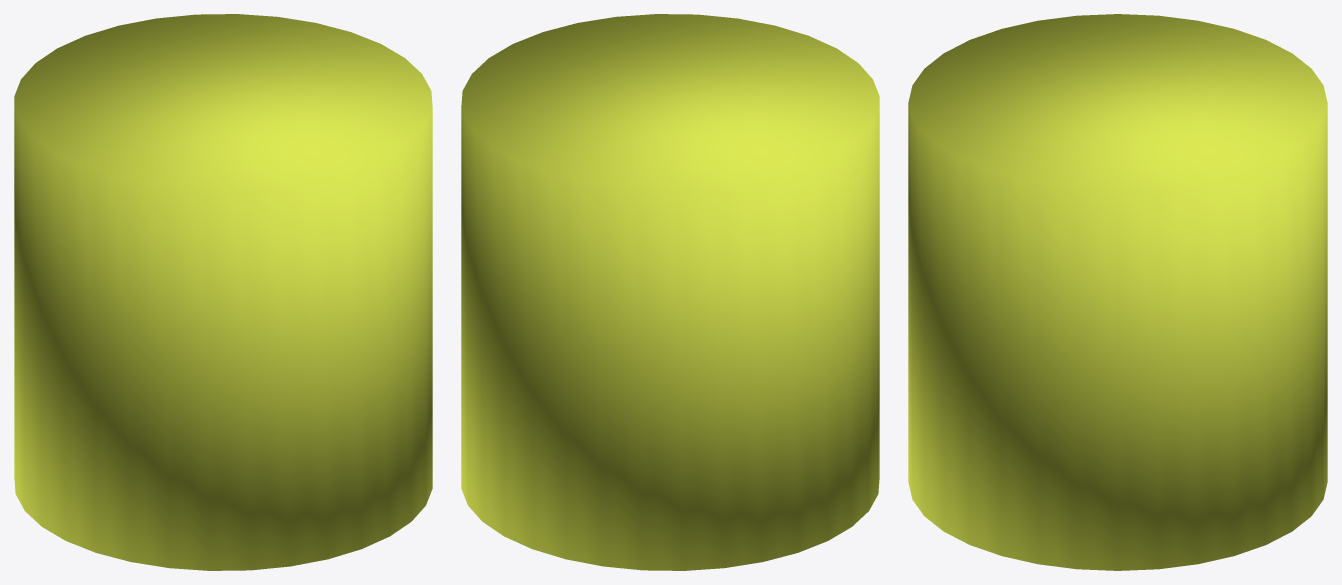
3 views of the same model, side by side, from view 1: azimuth 30°, elevation 25°; view 2: azimuth 150°, elevation 25°; view 3: azimuth 270°, elevation 25° (orthographic).
Parts seen in each view (by area): view 1: Cylinder; view 2: Cylinder; view 3: Cylinder.
Part boxes in pixels (x1,y1,x2,y2): Cylinder: (14,14,432,570); Cylinder: (461,14,879,570); Cylinder: (908,14,1327,570).
Bounding box in the file's own units: 2 × 2 × 2.
